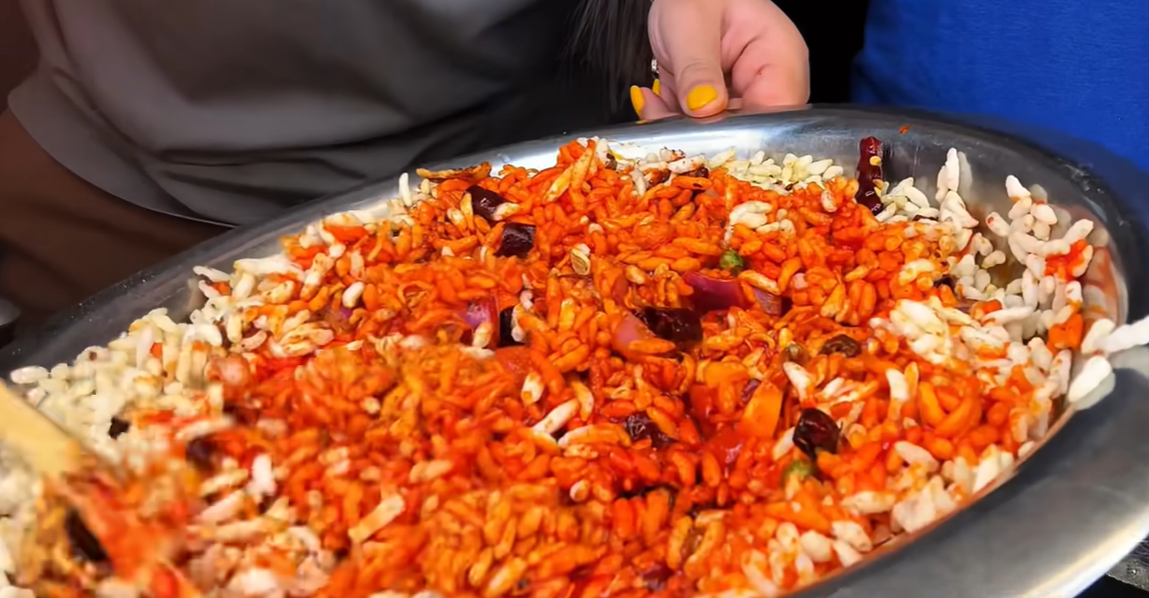chatpate: (101, 214, 1063, 547)
